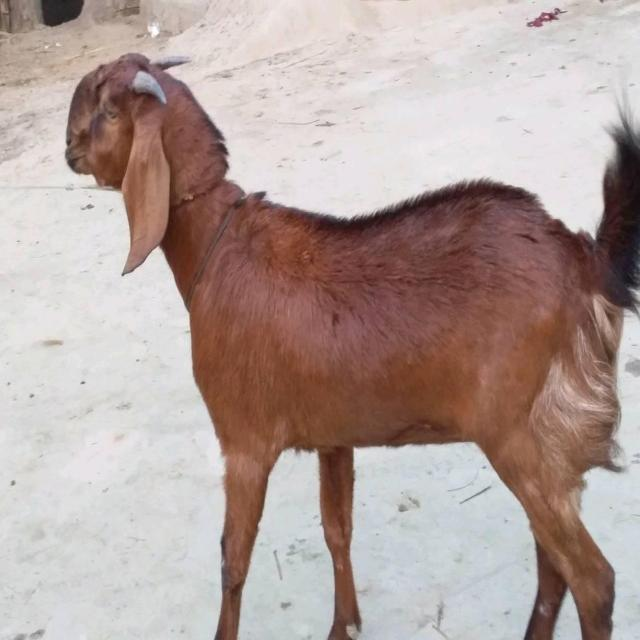Goat: (64, 50, 638, 639)
